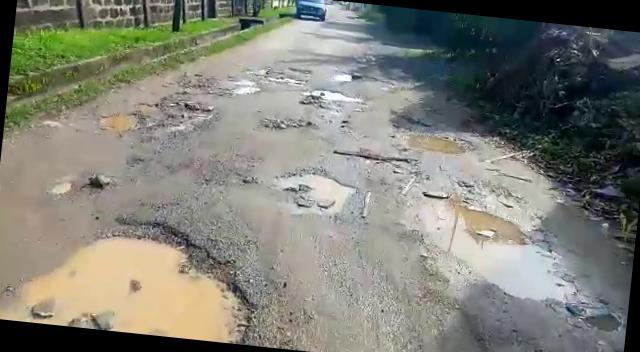pothole: (34, 208, 276, 347), (406, 188, 592, 308), (96, 91, 215, 144), (274, 167, 352, 215), (396, 125, 478, 158), (329, 146, 422, 168), (298, 86, 366, 105), (259, 115, 318, 134), (220, 79, 262, 98)
